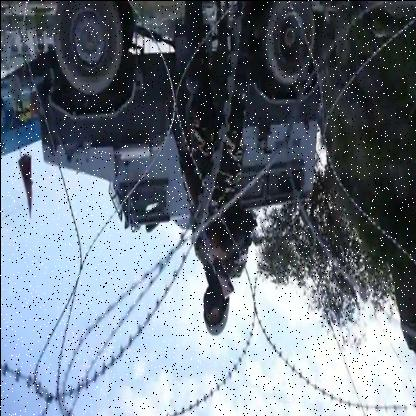rifle: (164, 106, 235, 300)
